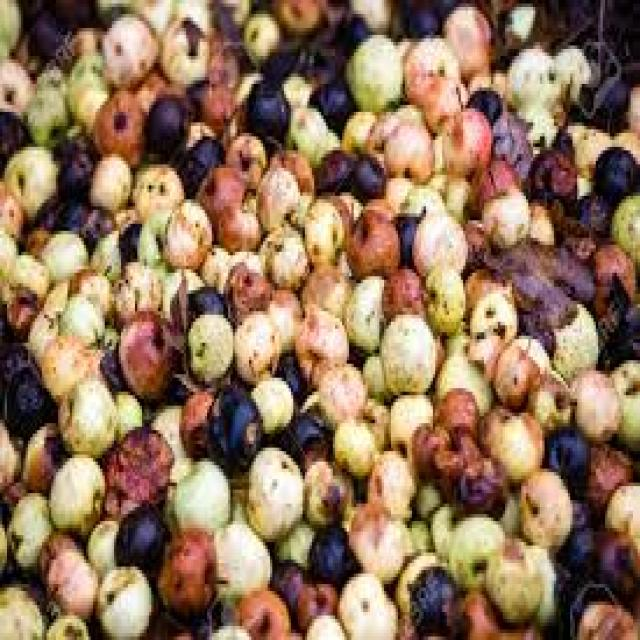organic waste: (477, 241, 591, 322), (102, 423, 172, 518), (344, 497, 408, 588), (480, 528, 538, 626), (477, 402, 542, 486), (244, 441, 300, 538), (156, 524, 214, 616), (168, 451, 228, 539), (114, 307, 172, 398), (568, 521, 638, 595), (54, 371, 116, 451), (516, 465, 572, 553), (377, 308, 433, 392), (549, 560, 610, 636), (502, 38, 558, 116), (49, 454, 105, 532), (300, 448, 354, 528), (214, 518, 268, 598), (2, 140, 56, 220), (577, 437, 633, 514), (198, 161, 254, 238), (93, 560, 149, 636), (89, 84, 144, 161), (398, 28, 456, 101), (461, 580, 535, 636), (449, 511, 505, 584), (337, 570, 398, 637), (207, 385, 258, 465), (100, 7, 158, 77), (466, 283, 514, 367), (344, 24, 398, 98), (0, 248, 49, 329), (596, 280, 638, 374), (435, 98, 489, 171), (542, 300, 598, 370), (305, 356, 361, 426), (114, 504, 170, 574), (42, 549, 98, 619), (566, 364, 616, 441), (477, 164, 526, 242), (379, 112, 433, 182), (296, 300, 344, 378), (405, 566, 458, 636), (110, 259, 166, 325), (158, 199, 212, 266), (253, 144, 296, 228), (440, 0, 489, 73), (363, 98, 417, 164), (412, 206, 465, 273), (7, 486, 49, 570), (156, 14, 209, 80), (0, 224, 47, 297), (344, 207, 396, 270), (40, 332, 98, 388), (528, 360, 570, 437), (300, 189, 342, 266), (2, 364, 54, 426), (184, 308, 230, 378), (365, 444, 412, 511), (519, 542, 556, 626), (130, 161, 182, 220), (240, 77, 288, 140), (296, 252, 344, 315), (84, 150, 132, 213), (491, 98, 528, 178), (421, 262, 461, 336), (342, 269, 382, 343), (232, 308, 274, 378), (330, 406, 374, 472), (607, 353, 638, 444), (458, 458, 505, 518), (528, 143, 575, 203), (393, 549, 440, 609), (422, 66, 466, 130), (433, 356, 489, 406), (508, 91, 558, 147), (258, 228, 308, 284), (23, 416, 63, 486), (591, 238, 638, 297), (491, 336, 533, 402), (564, 115, 608, 178), (23, 280, 65, 346), (63, 266, 116, 318), (238, 584, 288, 637), (291, 574, 335, 633), (221, 126, 265, 185), (177, 381, 212, 455), (303, 521, 349, 577), (147, 91, 186, 157), (605, 185, 638, 262), (65, 73, 107, 133), (468, 154, 516, 206), (179, 133, 221, 192), (0, 580, 44, 636), (21, 80, 65, 136), (221, 259, 268, 311), (431, 388, 477, 441), (517, 325, 563, 378), (410, 420, 449, 482), (577, 598, 638, 637), (598, 476, 638, 535), (249, 374, 291, 430), (198, 80, 240, 136), (389, 388, 428, 448), (584, 74, 631, 122), (56, 294, 102, 343), (596, 143, 638, 196), (42, 227, 84, 280), (291, 105, 333, 157), (552, 38, 586, 102), (23, 10, 70, 56), (463, 259, 507, 308), (240, 4, 279, 59), (272, 136, 312, 189), (379, 266, 422, 315), (268, 0, 328, 35), (268, 556, 302, 616), (76, 200, 118, 248), (309, 77, 352, 122), (216, 199, 258, 245), (177, 591, 223, 633), (52, 136, 88, 189), (160, 266, 198, 315), (265, 287, 298, 343), (0, 55, 30, 115), (431, 171, 470, 217), (284, 412, 326, 454), (573, 126, 612, 171), (33, 189, 79, 227), (272, 518, 310, 563), (205, 32, 235, 88), (0, 335, 30, 391), (109, 384, 142, 434), (310, 144, 349, 186), (0, 105, 26, 168), (572, 189, 608, 234), (552, 203, 598, 238), (182, 287, 226, 322), (303, 38, 342, 77), (0, 413, 19, 493), (393, 210, 424, 259), (274, 346, 305, 395), (346, 154, 382, 196), (84, 518, 116, 563), (146, 402, 177, 448), (95, 329, 119, 388), (303, 605, 347, 637), (0, 171, 21, 238), (335, 105, 372, 143), (363, 392, 389, 444), (461, 217, 491, 262), (393, 182, 440, 210), (349, 0, 391, 31), (491, 489, 521, 532), (42, 608, 88, 636), (430, 500, 454, 553), (526, 196, 554, 241), (144, 612, 193, 637), (452, 423, 486, 458), (288, 182, 312, 231), (0, 0, 21, 56), (468, 66, 507, 95), (361, 350, 386, 395), (2, 284, 35, 318), (468, 84, 500, 119), (323, 185, 347, 231), (279, 66, 307, 105), (442, 325, 475, 357), (63, 52, 100, 80), (342, 10, 368, 49), (226, 245, 258, 276), (200, 245, 228, 280), (210, 0, 238, 35), (135, 66, 165, 98), (384, 172, 412, 206), (261, 49, 293, 77), (331, 245, 352, 287), (200, 619, 249, 637), (552, 126, 577, 161), (405, 511, 428, 549), (407, 4, 438, 32), (184, 74, 205, 115), (70, 24, 100, 52), (612, 126, 638, 157), (435, 448, 463, 476), (412, 482, 440, 510), (32, 59, 63, 84), (112, 199, 135, 231), (21, 220, 44, 248), (626, 80, 638, 130), (391, 38, 410, 56), (0, 518, 5, 574)
